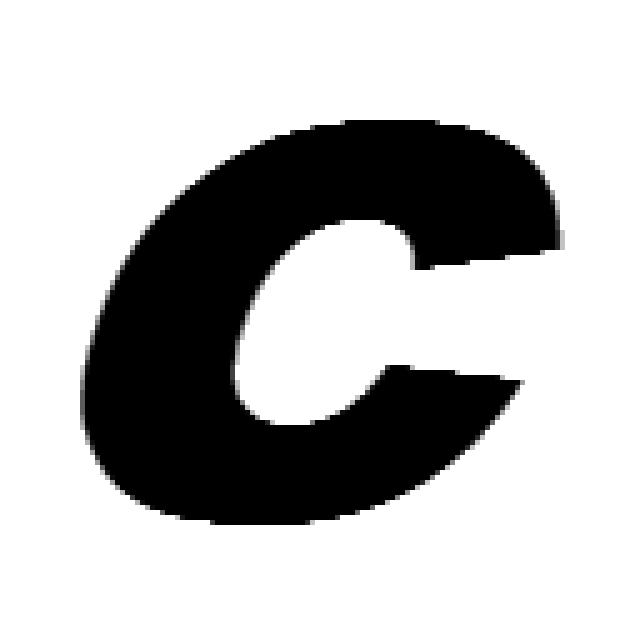C: (80, 120, 565, 525)
